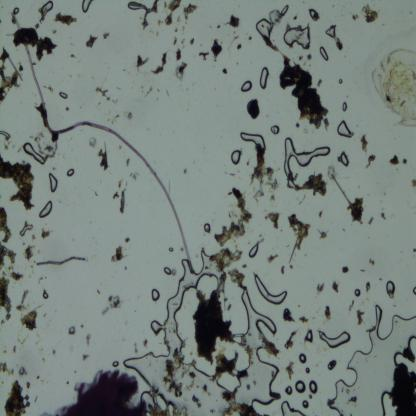Air bubble: (122, 250, 223, 414), (327, 303, 416, 415), (224, 287, 280, 416), (284, 137, 333, 191), (254, 275, 288, 306), (283, 24, 312, 50), (317, 330, 351, 350), (23, 142, 46, 166), (239, 131, 266, 151), (255, 18, 274, 38), (281, 401, 305, 415), (338, 119, 354, 137), (39, 199, 52, 220), (259, 66, 269, 90), (38, 1, 54, 16), (385, 281, 396, 302), (48, 172, 59, 193), (324, 23, 337, 40), (18, 224, 34, 236), (339, 150, 349, 167), (304, 328, 314, 344), (319, 46, 329, 61), (231, 150, 240, 166), (241, 80, 253, 92), (294, 381, 306, 393), (151, 288, 161, 302), (81, 0, 91, 14), (128, 1, 142, 11), (309, 380, 318, 395), (249, 244, 258, 258), (280, 4, 289, 18), (270, 124, 280, 136), (0, 128, 10, 140), (65, 166, 75, 178), (58, 90, 69, 100), (298, 353, 307, 364), (308, 7, 316, 19), (285, 386, 293, 398), (203, 224, 211, 233), (164, 266, 171, 276), (342, 101, 348, 112), (13, 6, 20, 15), (354, 288, 361, 297), (112, 360, 120, 367), (305, 367, 311, 374), (412, 286, 416, 296), (338, 79, 344, 85), (169, 247, 174, 252)
Background material: (263, 38, 332, 130), (368, 46, 416, 130), (194, 286, 232, 362), (214, 185, 252, 248), (0, 155, 36, 212), (12, 29, 60, 62), (252, 152, 281, 202), (391, 362, 416, 416), (0, 49, 23, 103), (162, 347, 186, 397), (286, 215, 310, 262), (222, 389, 260, 415), (4, 381, 32, 415), (328, 166, 350, 205), (213, 350, 241, 378), (20, 304, 46, 332), (210, 250, 242, 271), (299, 173, 327, 196), (36, 255, 88, 267), (0, 272, 12, 322), (141, 0, 160, 30), (36, 135, 58, 159), (102, 293, 123, 316), (164, 0, 182, 25), (348, 196, 364, 224), (259, 334, 279, 356), (227, 268, 246, 291), (0, 205, 11, 243), (151, 52, 170, 74), (245, 96, 262, 120), (109, 245, 130, 264), (208, 38, 224, 62), (360, 4, 380, 23), (283, 327, 298, 352), (0, 244, 15, 268), (262, 212, 280, 231), (98, 141, 109, 171), (280, 304, 297, 323), (16, 289, 30, 312), (134, 49, 149, 70), (54, 12, 78, 25), (174, 62, 189, 81), (183, 3, 197, 22), (22, 243, 36, 262), (184, 370, 197, 390), (401, 347, 416, 364), (94, 87, 111, 101), (364, 153, 378, 169), (84, 32, 98, 48), (227, 14, 241, 30), (0, 362, 15, 376), (284, 360, 294, 380), (314, 278, 326, 294), (118, 190, 126, 213), (197, 48, 210, 62), (359, 132, 368, 152), (236, 368, 249, 381), (346, 394, 359, 407), (9, 270, 23, 282), (334, 38, 345, 53), (356, 309, 365, 327), (390, 151, 400, 167), (316, 226, 329, 238), (324, 304, 332, 322), (40, 226, 52, 238), (266, 253, 279, 264), (326, 359, 337, 372), (330, 281, 340, 295), (192, 394, 202, 408), (84, 331, 92, 348), (101, 29, 112, 41), (201, 384, 212, 396), (232, 41, 244, 52), (116, 177, 125, 191), (297, 314, 309, 324), (88, 135, 97, 148), (17, 367, 29, 376), (364, 281, 371, 295), (368, 255, 376, 267), (80, 352, 90, 361), (68, 325, 76, 336), (340, 266, 350, 274), (126, 110, 134, 120), (220, 67, 230, 75), (317, 208, 324, 219), (172, 34, 178, 46), (351, 12, 359, 21), (176, 48, 181, 62), (124, 235, 131, 244), (112, 191, 119, 200), (50, 347, 57, 356), (280, 264, 285, 275), (380, 212, 386, 221), (125, 156, 130, 166), (190, 37, 196, 45), (25, 380, 31, 388), (42, 292, 48, 300), (411, 178, 416, 186), (242, 264, 247, 269), (412, 248, 416, 254)
Diatom: (315, 76, 323, 88), (401, 158, 408, 166), (34, 22, 40, 30), (368, 216, 374, 224), (226, 304, 232, 312), (246, 383, 251, 390)
Microfibre: (10, 16, 194, 273)
Pen: (43, 369, 141, 415)
